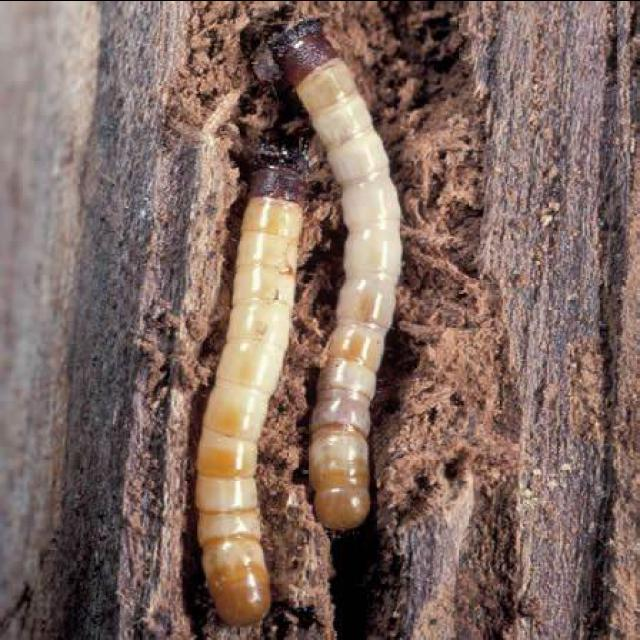wireworm: (264, 8, 408, 536), (194, 145, 308, 635)
